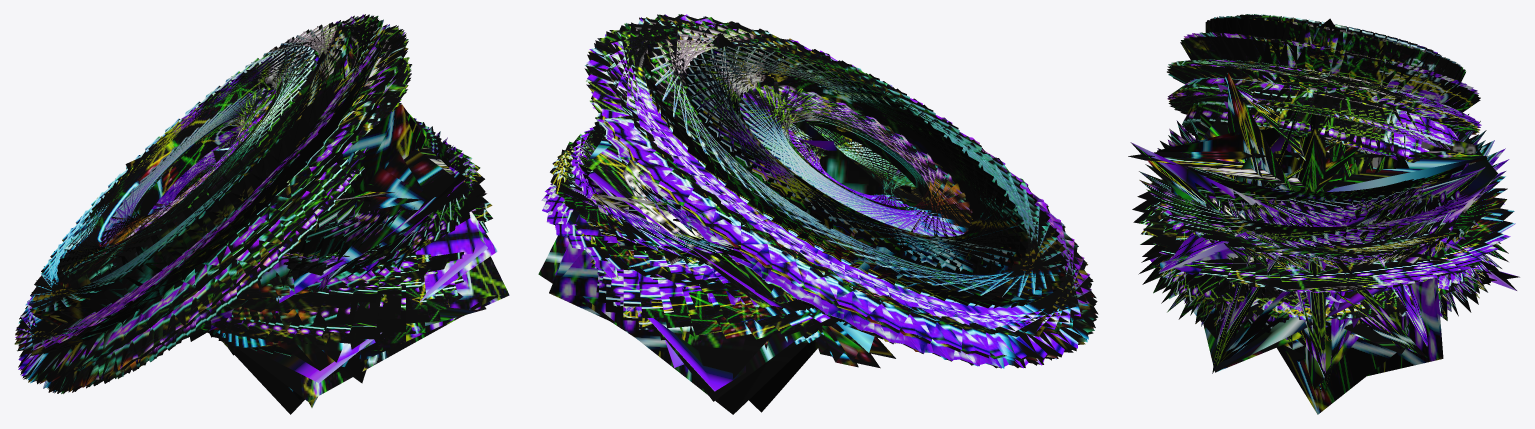
The model's file is flor19.gltf.
3 renders of one model, left to right at view 1: azimuth 30°, elevation 25°; view 2: azimuth 150°, elevation 25°; view 3: azimuth 270°, elevation 25°, orthographic. The views are drawn at different scales.
Visible parts, largest first — view 1: Torus.007; view 2: Torus.007; view 3: Torus.007.
Part boxes in pixels (<box>): Torus.007: <box>14,14,509,414</box>; Torus.007: <box>538,14,1098,414</box>; Torus.007: <box>1128,14,1519,414</box>.
Bounding box in the file's own units: 8.17 × 5.93 × 5.09.
Materials: 1 (1 with a texture image).
